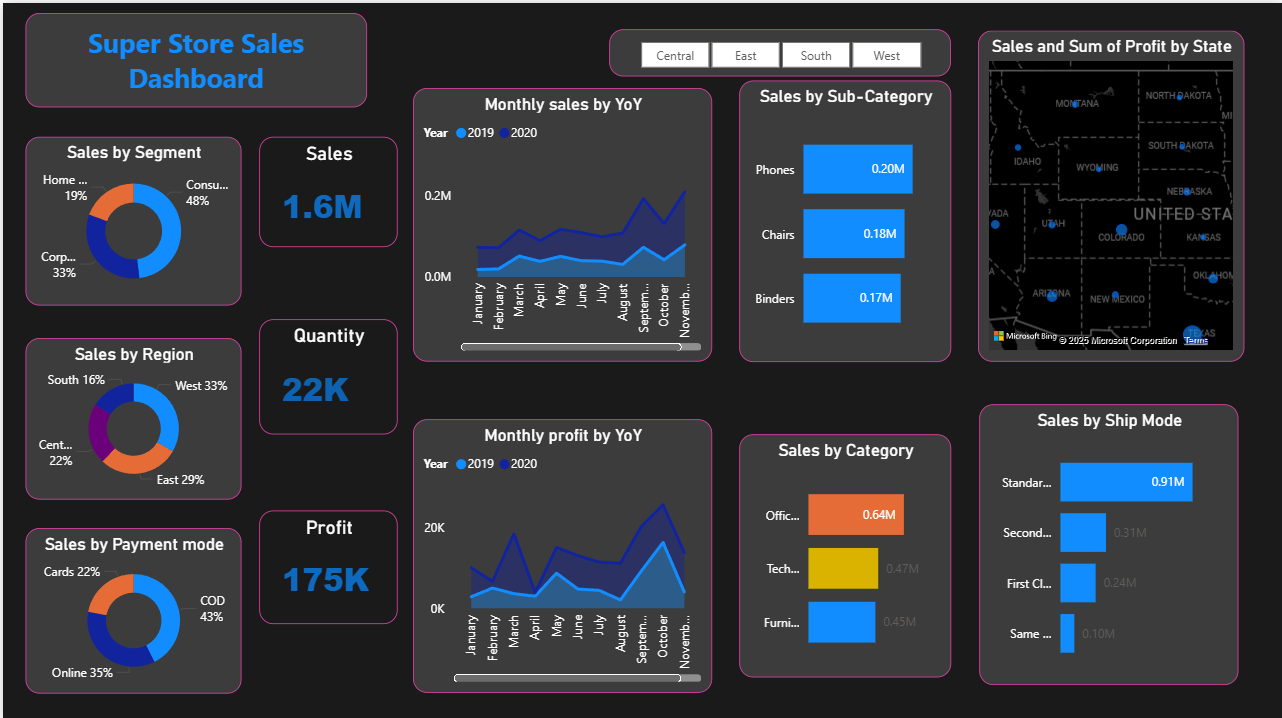

What the dashboard file says about the page in this screenshot:
{"tool":"powerbi","page":{"name":"Page 1","canvas":[1280,720],"ordinal":0},"visuals":[{"type":"clusteredBarChart","title":"Sales by Category","fields":{"Category":["SuperStore_Sales_Dataset.Category"],"Y":["Sum(SuperStore_Sales_Dataset.Sales)"]},"box":[736.4,431.8,212,242.9],"z":0},{"type":"clusteredBarChart","title":"Sales by Sub-Category","fields":{"Category":["SuperStore_Sales_Dataset.Sub-Category"],"Y":["Sum(SuperStore_Sales_Dataset.Sales)"]},"box":[736.4,77.1,212,281.4],"z":1000},{"type":"clusteredBarChart","title":"Sales by Ship Mode","fields":{"Y":["Sum(SuperStore_Sales_Dataset.Sales)"],"Category":["SuperStore_Sales_Dataset.Ship Mode"]},"box":[976,401.7,259.4,281.1],"z":2000},{"type":"stackedAreaChart","title":"Monthly sales by YoY","fields":{"Y":["Sum(SuperStore_Sales_Dataset.Sales)"],"Category":["SuperStore_Sales_Dataset.Order Date.Variation.Date Hierarchy.Month","SuperStore_Sales_Dataset.Order Date.Variation.Date Hierarchy.Day"],"Series":["SuperStore_Sales_Dataset.Order Date.Variation.Date Hierarchy.Year"]},"box":[410.2,84.5,299.2,273.9],"z":3000},{"type":"stackedAreaChart","title":"Monthly profit by YoY","fields":{"Category":["SuperStore_Sales_Dataset.Order Date.Variation.Date Hierarchy.Month","SuperStore_Sales_Dataset.Order Date.Variation.Date Hierarchy.Day"],"Series":["SuperStore_Sales_Dataset.Order Date.Variation.Date Hierarchy.Year"],"Y":["Sum(SuperStore_Sales_Dataset.Profit)"]},"box":[410.2,416.2,299.2,273.9],"z":4000},{"type":"map","title":"Sales and Sum of Profit by State","fields":{"Size":["Sum(SuperStore_Sales_Dataset.Sales)"],"Category":["SuperStore_Sales_Dataset.State"]},"box":[975.4,27,266,331.6],"z":5000},{"type":"donutChart","title":"Sales by Segment","fields":{"Category":["SuperStore_Sales_Dataset.Segment"],"Y":["Sum(SuperStore_Sales_Dataset.Sales)"]},"box":[22.9,133.9,216,168.9],"z":6000},{"type":"donutChart","title":"Sales by Region","fields":{"Category":["SuperStore_Sales_Dataset.Region"],"Y":["Sum(SuperStore_Sales_Dataset.Sales)"]},"box":[22.9,335.4,216,161.7],"z":7000},{"type":"donutChart","title":"Sales by Payment mode","fields":{"Category":["SuperStore_Sales_Dataset.Payment Mode"],"Y":["Sum(SuperStore_Sales_Dataset.Sales)"]},"box":[22.9,524.8,216,165.3],"z":8000},{"type":"slicer","fields":{"Values":["SuperStore_Sales_Dataset.Region"]},"box":[606.8,26.5,341.4,47.1],"z":9000},{"type":"textbox","box":[22.9,9.7,341.4,94.1],"z":10000},{"type":"cardVisual","title":"Sales","fields":{"Data":["Sum(SuperStore_Sales_Dataset.Sales)"]},"box":[256.2,133.8,138.8,110],"z":11000},{"type":"cardVisual","title":"Quantity","fields":{"Data":["Sum(SuperStore_Sales_Dataset.Quantity)"]},"box":[256.2,316.2,138.8,115],"z":11001},{"type":"cardVisual","title":"Profit","fields":{"Data":["Sum(SuperStore_Sales_Dataset.Profit)"]},"box":[256.2,507.5,138.8,113.8],"z":11002}]}

Visuals, with their boxes in screenshot pixels (x1, y1, x2, y2), scaled from the page's 1280x720 canvas onto the 1282x718 screenshot:
"Sales by Category" clusteredBarChart: [738,431,950,673]
"Sales by Sub-Category" clusteredBarChart: [738,77,950,358]
"Sales by Ship Mode" clusteredBarChart: [978,401,1237,681]
"Monthly sales by YoY" stackedAreaChart: [411,84,711,357]
"Monthly profit by YoY" stackedAreaChart: [411,415,711,688]
"Sales and Sum of Profit by State" map: [977,27,1243,358]
"Sales by Segment" donutChart: [23,134,239,302]
"Sales by Region" donutChart: [23,334,239,496]
"Sales by Payment mode" donutChart: [23,523,239,688]
slicer - SuperStore_Sales_Dataset.Region: [608,26,950,73]
textbox: [23,10,365,104]
"Sales" cardVisual: [257,133,396,243]
"Quantity" cardVisual: [257,315,396,430]
"Profit" cardVisual: [257,506,396,620]
